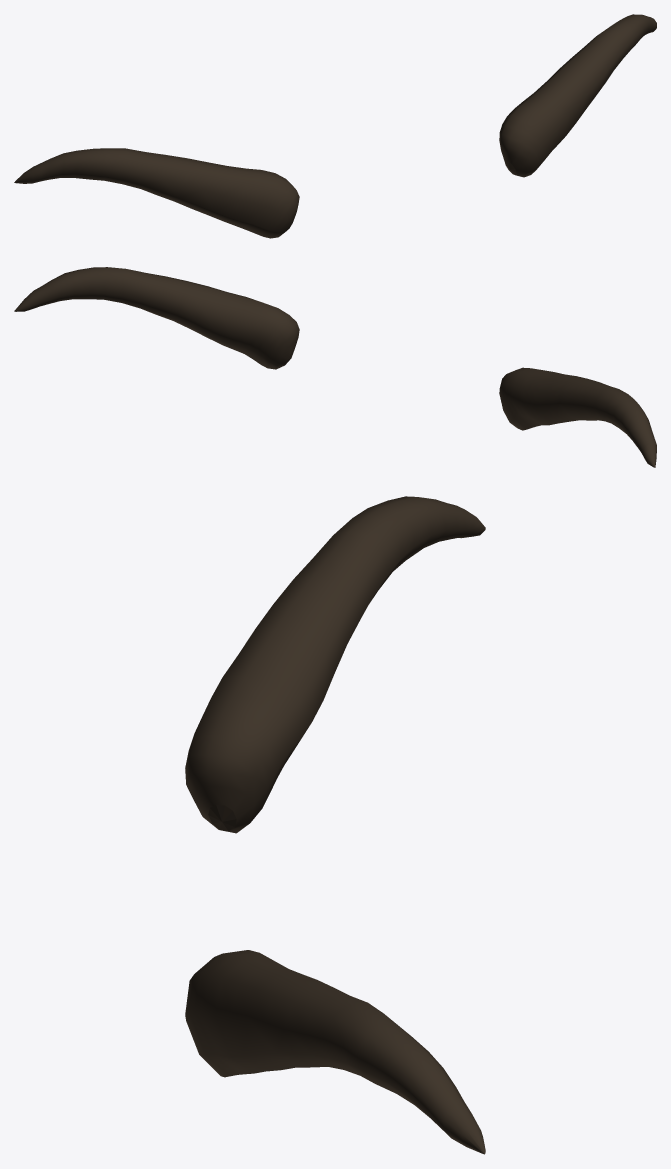
Rendered from Upward.fbx.
The picture shows the model from 3 angles, top to bottom: view 1: azimuth 30°, elevation 25°; view 2: azimuth 150°, elevation 25°; view 3: azimuth 270°, elevation 25°; orthographic projection. The views are drawn at different scales.
Parts seen in each view (by area): view 1: upward2, upward1; view 2: upward1, upward2; view 3: upward2, upward1.
Part boxes in pixels (box(x1,y1,x2,y2)): upward2: box(14, 148, 299, 238); upward1: box(499, 14, 656, 177); upward1: box(14, 267, 299, 369); upward2: box(499, 367, 656, 467); upward2: box(185, 496, 485, 833); upward1: box(185, 950, 485, 1154).
Size of the model in its own units: 0.5816 by 0.0801 by 0.118.
